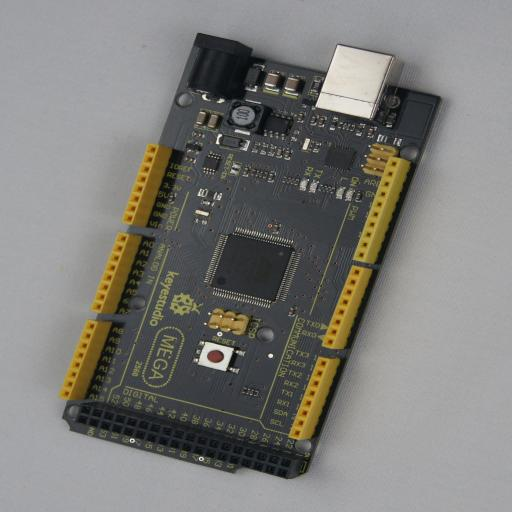Arduino Mega 2560 -Black and Yellow-: (62, 33, 446, 479)
